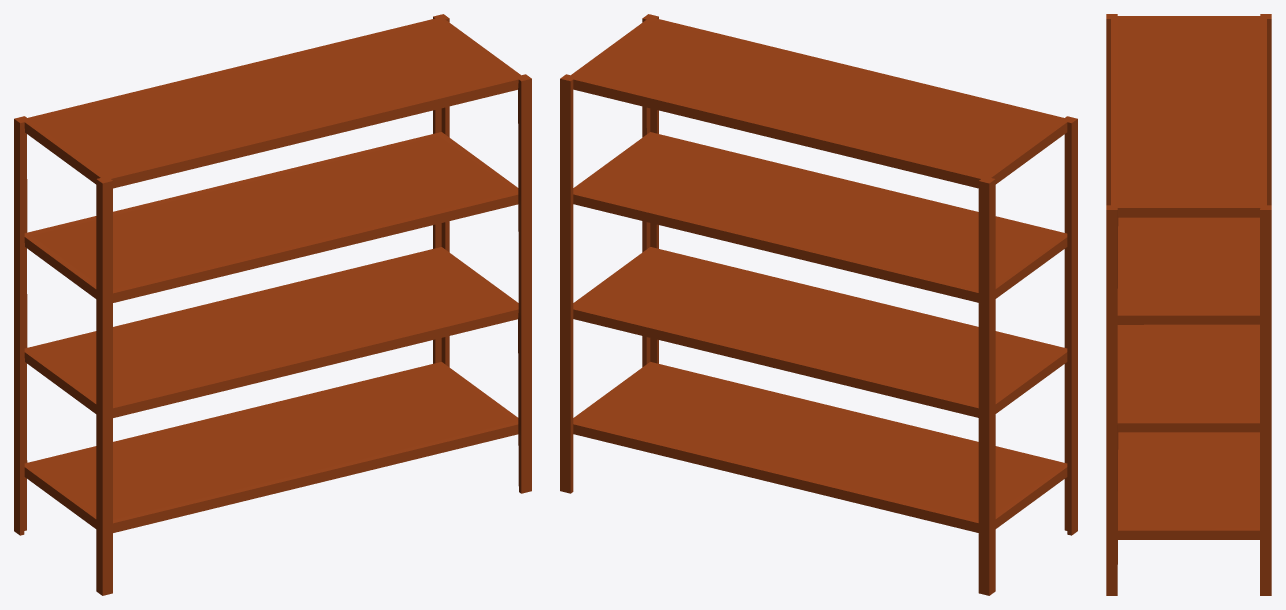
File: StorageShelfFinal.fbx
3 views of the same model, side by side, from view 1: azimuth 30°, elevation 25°; view 2: azimuth 150°, elevation 25°; view 3: azimuth 270°, elevation 25° (orthographic). The views are drawn at different scales.
Visible parts, largest first — view 1: ShelfPost5; view 2: ShelfPost5; view 3: ShelfPost5.
Boxes of the visible parts, x1,y1,x2,y2 form: ShelfPost5: (14,14,531,595); ShelfPost5: (560,14,1077,595); ShelfPost5: (1106,14,1271,595).
Bounding box in the file's own units: 234 × 215 × 83.6.
